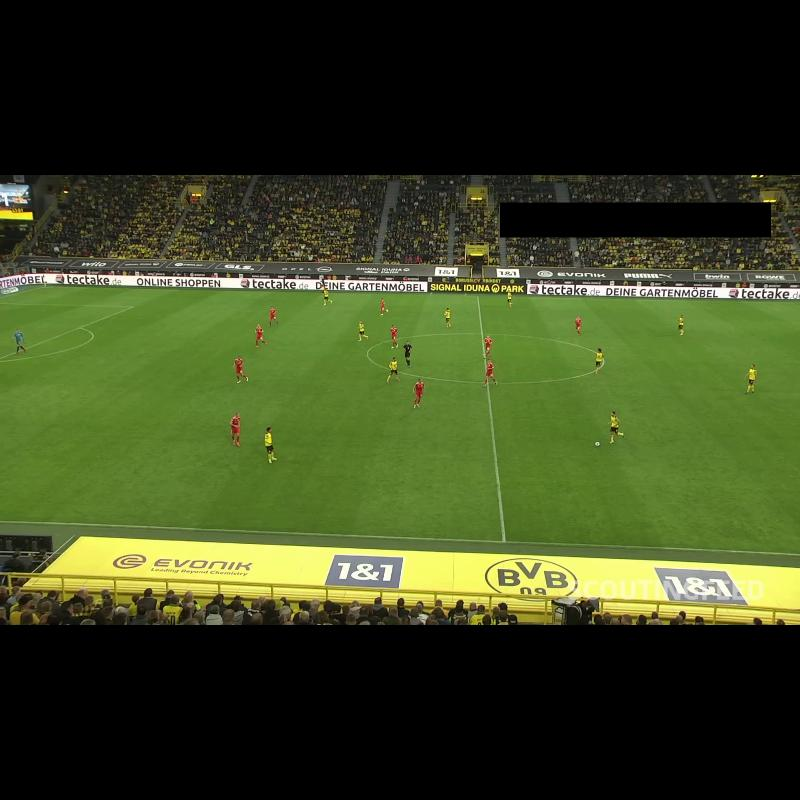cross_recipient_zone: (0, 304, 133, 358)
crossing_player_zone: (0, 286, 244, 308), (723, 302, 800, 321), (0, 407, 24, 419)
pitch: (0, 287, 800, 554)
